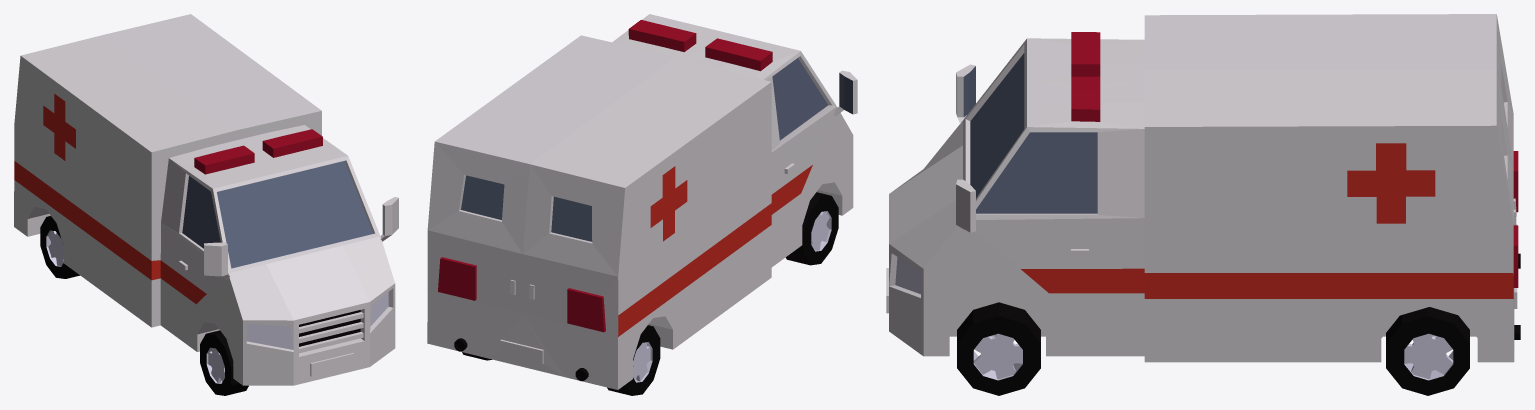
The model's file is Ambulance.gltf.
The picture shows the model from 3 angles, left to right: view 1: azimuth 30°, elevation 25°; view 2: azimuth 150°, elevation 25°; view 3: azimuth 270°, elevation 25°; orthographic projection. The views are drawn at different scales.
Parts seen in each view (by area): view 1: Ambulance, Ambulance wheel front right, Ambulance wheel rear right; view 2: Ambulance, Ambulance wheel front right, Ambulance wheel rear right; view 3: Ambulance, Ambulance wheel front left, Ambulance wheel rear left.
Boxes of the visible parts, box(x1,y1,x2,y2) form: Ambulance: box(14, 14, 398, 385); Ambulance wheel front right: box(200, 330, 248, 395); Ambulance wheel rear right: box(40, 216, 79, 278); Ambulance: box(427, 14, 857, 389); Ambulance wheel front right: box(785, 192, 838, 265); Ambulance wheel rear right: box(607, 325, 660, 395); Ambulance: box(886, 14, 1520, 362); Ambulance wheel front left: box(957, 302, 1040, 395); Ambulance wheel rear left: box(1386, 307, 1469, 395).
Bounding box in the file's own units: 2.81 × 2.85 × 5.91.
